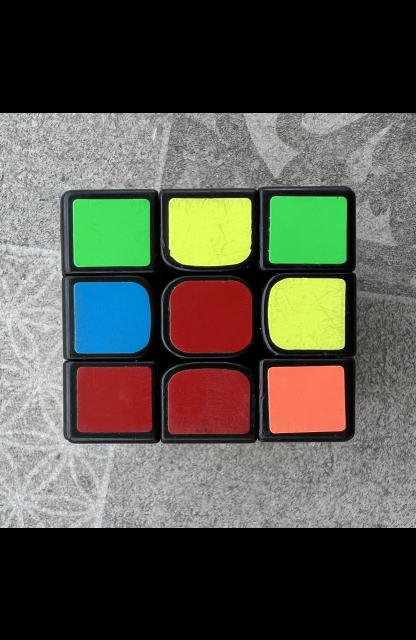Blue: (73, 281, 150, 352)
Green: (269, 195, 347, 263), (73, 198, 150, 266)
Orange: (268, 364, 346, 433)
Red: (169, 280, 252, 352), (168, 368, 250, 434), (77, 366, 152, 432)
Yellow: (168, 196, 252, 266), (268, 277, 346, 349)
